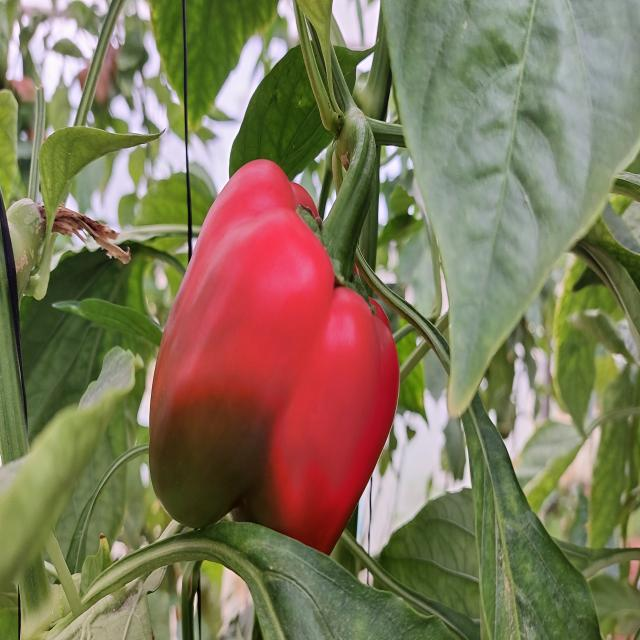Red-Ready-to-Harvest: (158, 157, 396, 548)
